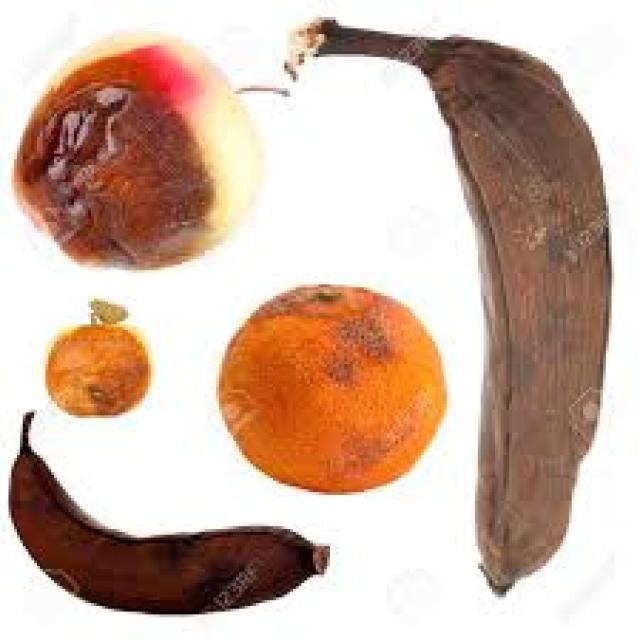organic waste: (278, 15, 612, 598), (6, 404, 327, 611), (11, 28, 256, 264), (216, 282, 444, 492), (45, 319, 148, 415), (88, 290, 125, 322)
